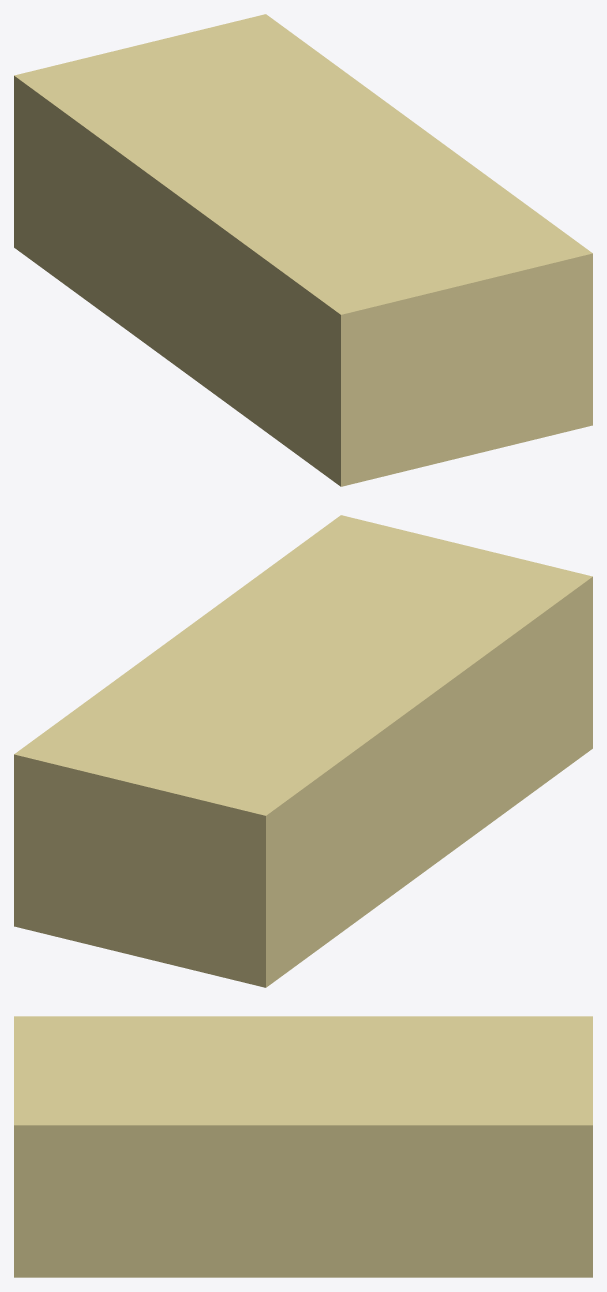
The model's file is container.gltf.
3 renders of one model, top to bottom at view 1: azimuth 30°, elevation 25°; view 2: azimuth 150°, elevation 25°; view 3: azimuth 270°, elevation 25°, orthographic. The views are drawn at different scales.
Visible parts, largest first — view 1: Container; view 2: Container; view 3: Container.
Part boxes in pixels (x1=…): Container: x1=14, y1=14, x2=592, y2=486; Container: x1=14, y1=515, x2=592, y2=987; Container: x1=14, y1=1016, x2=592, y2=1277.
Bounding box in the file's own units: 4.9 × 3.2 × 11.01.
